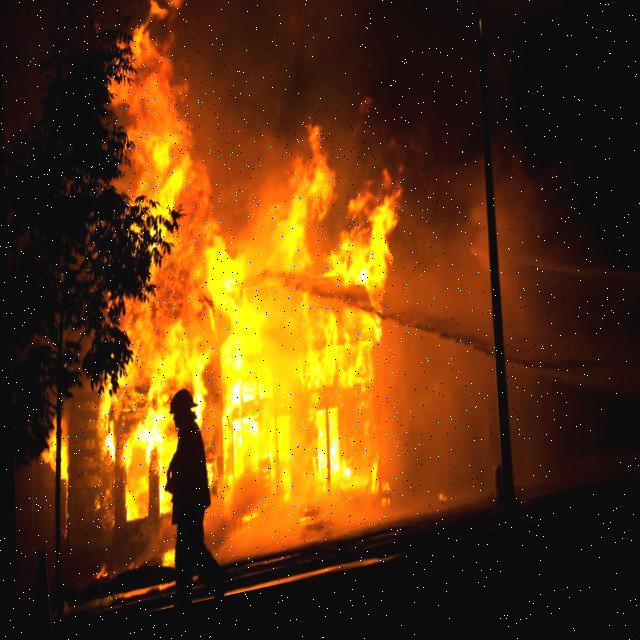Fire: (103, 0, 405, 565)
